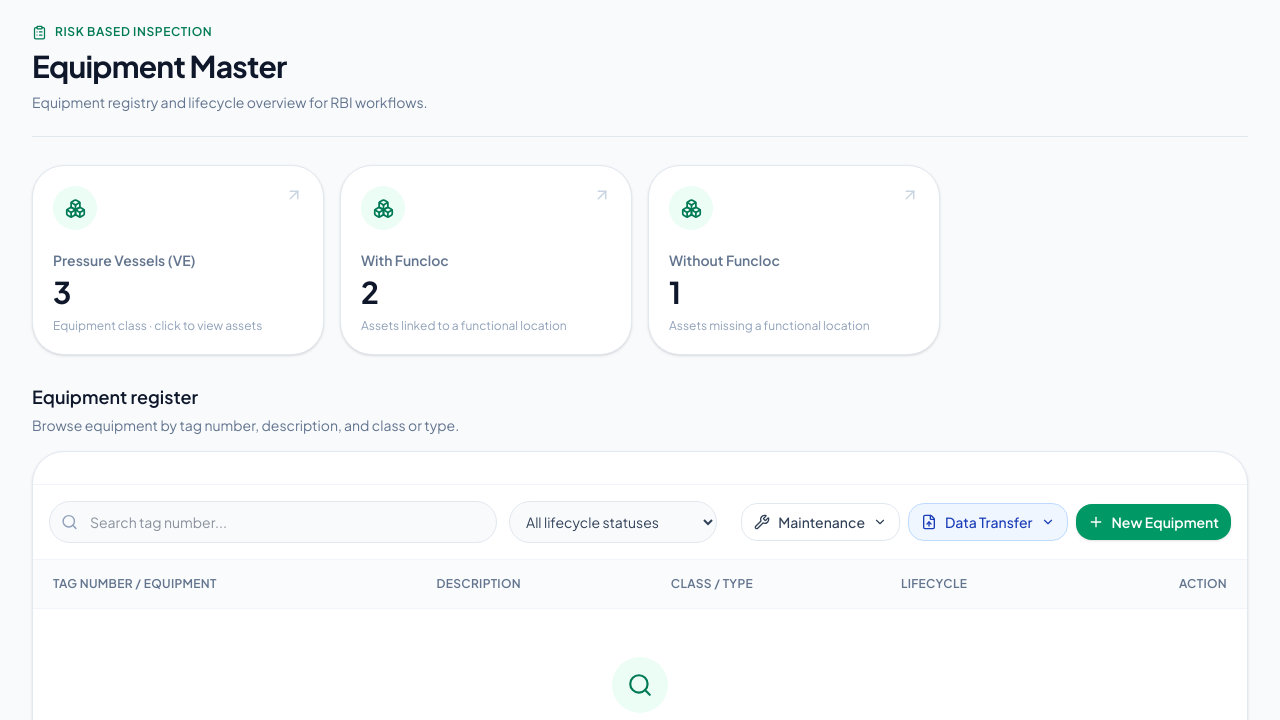
Test: EquipmentMasterPage API integration › opens the New Equipment modal and submits a cascaded class/type payload
Step 1. Click the button "New Equipment" → (1153, 522), box [1076,504,1231,540]
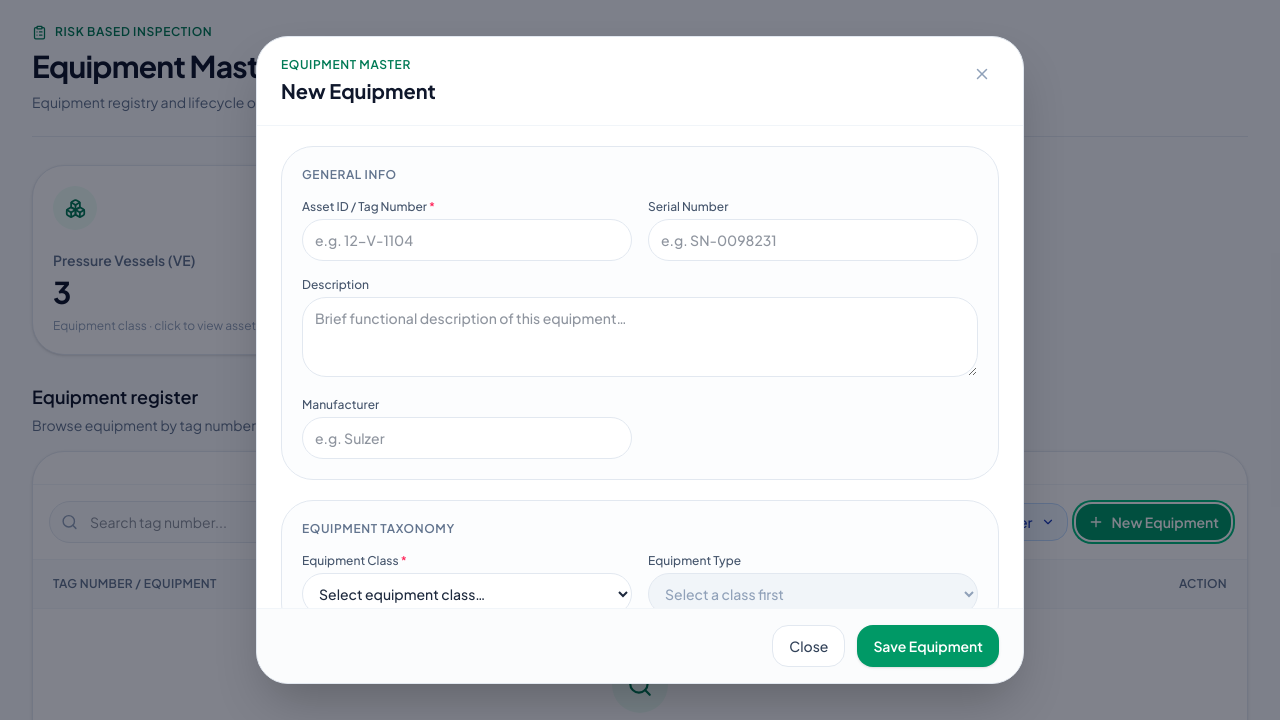
Check: the dialog "New Equipment" is shown, box [256,36,1024,684]
Step 2. Select "Pressure Vessels (VE)" in the dropdown labelled "Equipment Class *" → (467, 594), box [302,573,632,615]
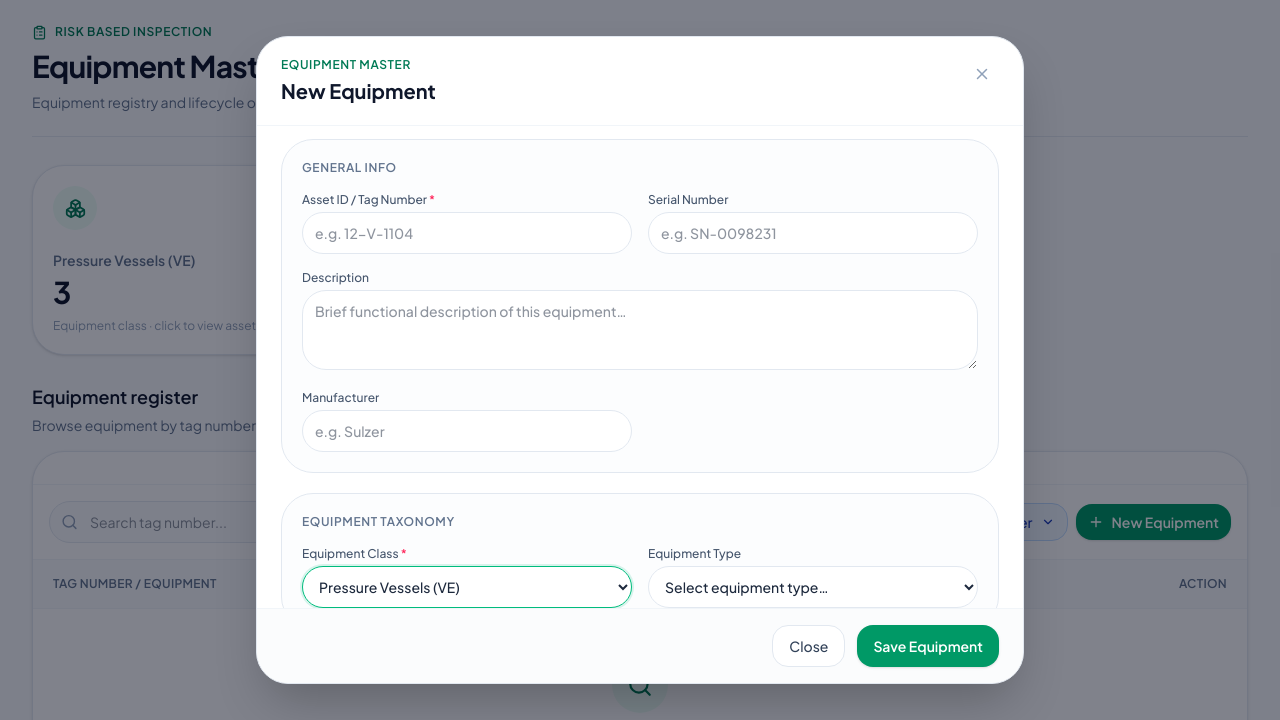
Step 3. Select "Separator (Se) (SE)" in the dropdown labelled "Equipment Type" → (813, 587), box [648,566,978,608]
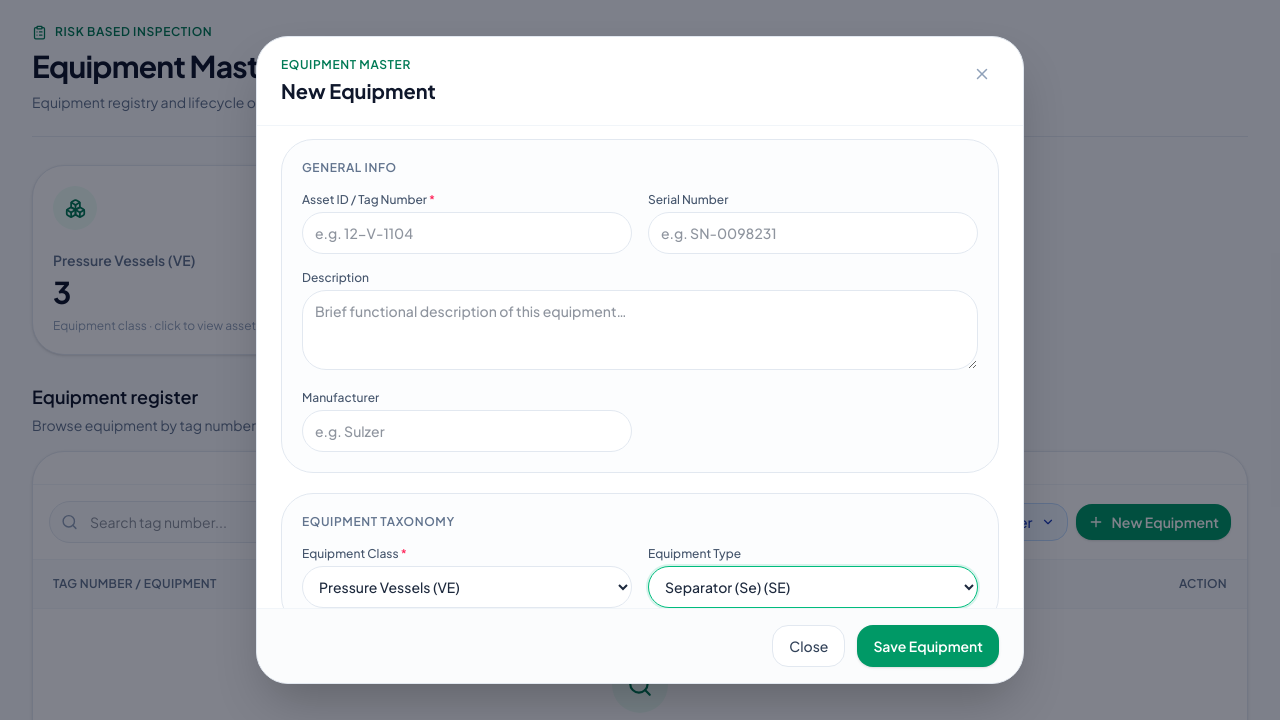
Step 4. Type "12-V-1104" into the field labelled "Asset ID / Tag Number *" → (467, 233), box [302,212,632,254]
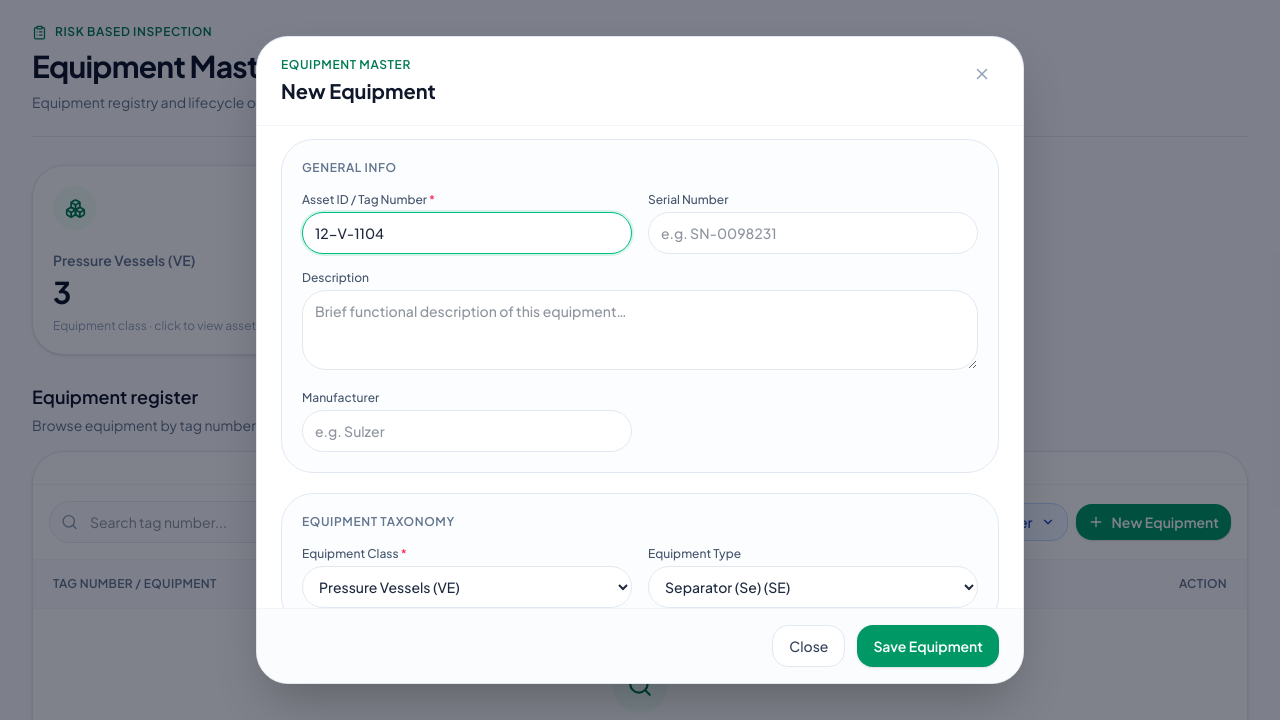
Step 5. Click the button "Save Equipment" → (928, 646), box [857,625,999,667]
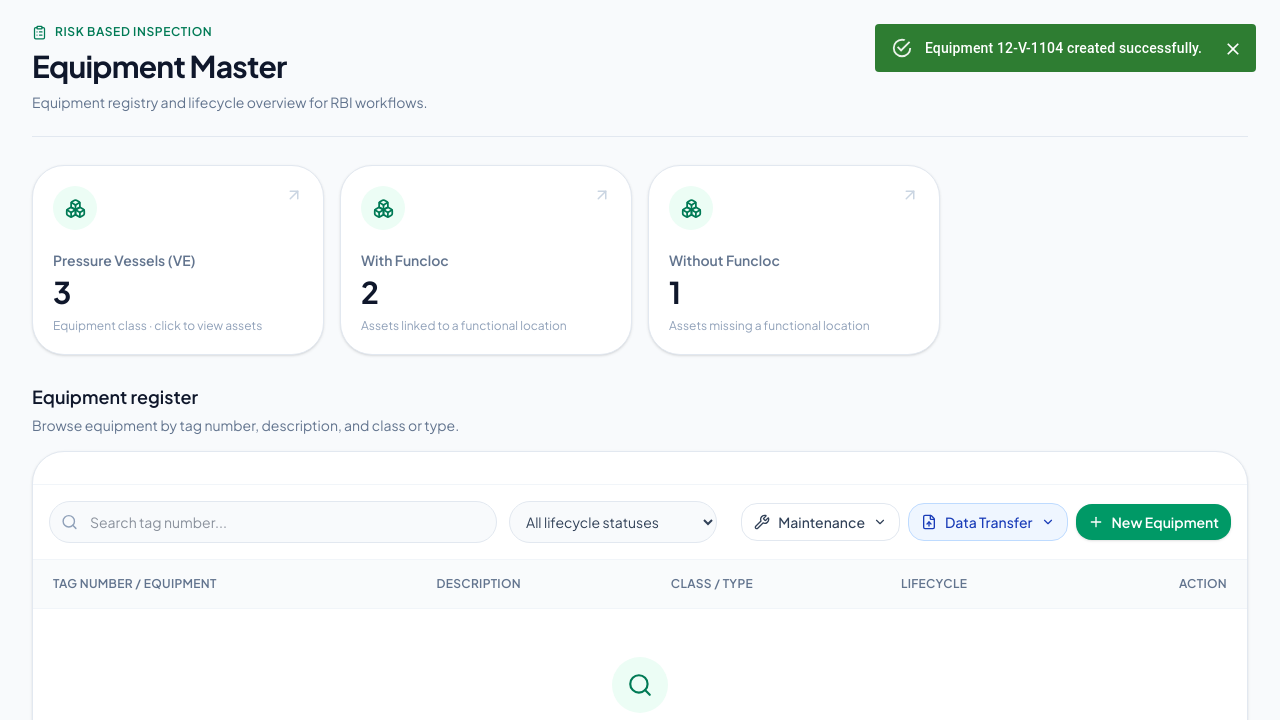
Check: the text "Equipment 12-V-1104 created successfully." is shown, box [925,40,1202,56]
